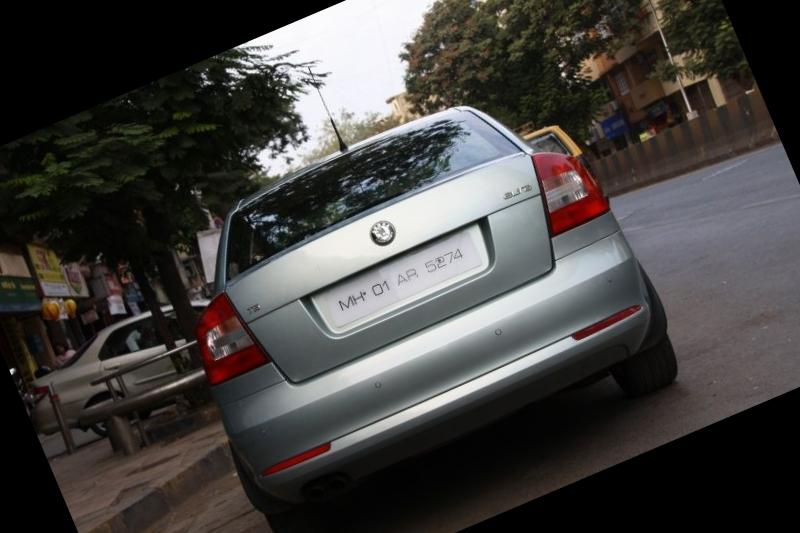plate: (288, 215, 510, 360)
